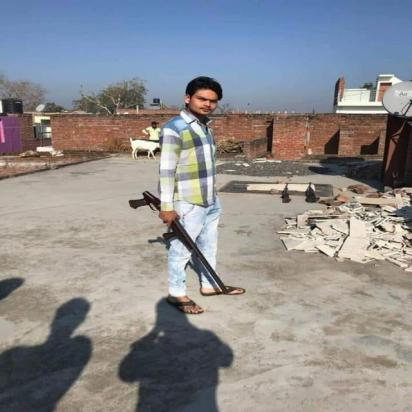Gun: (127, 189, 231, 296)
